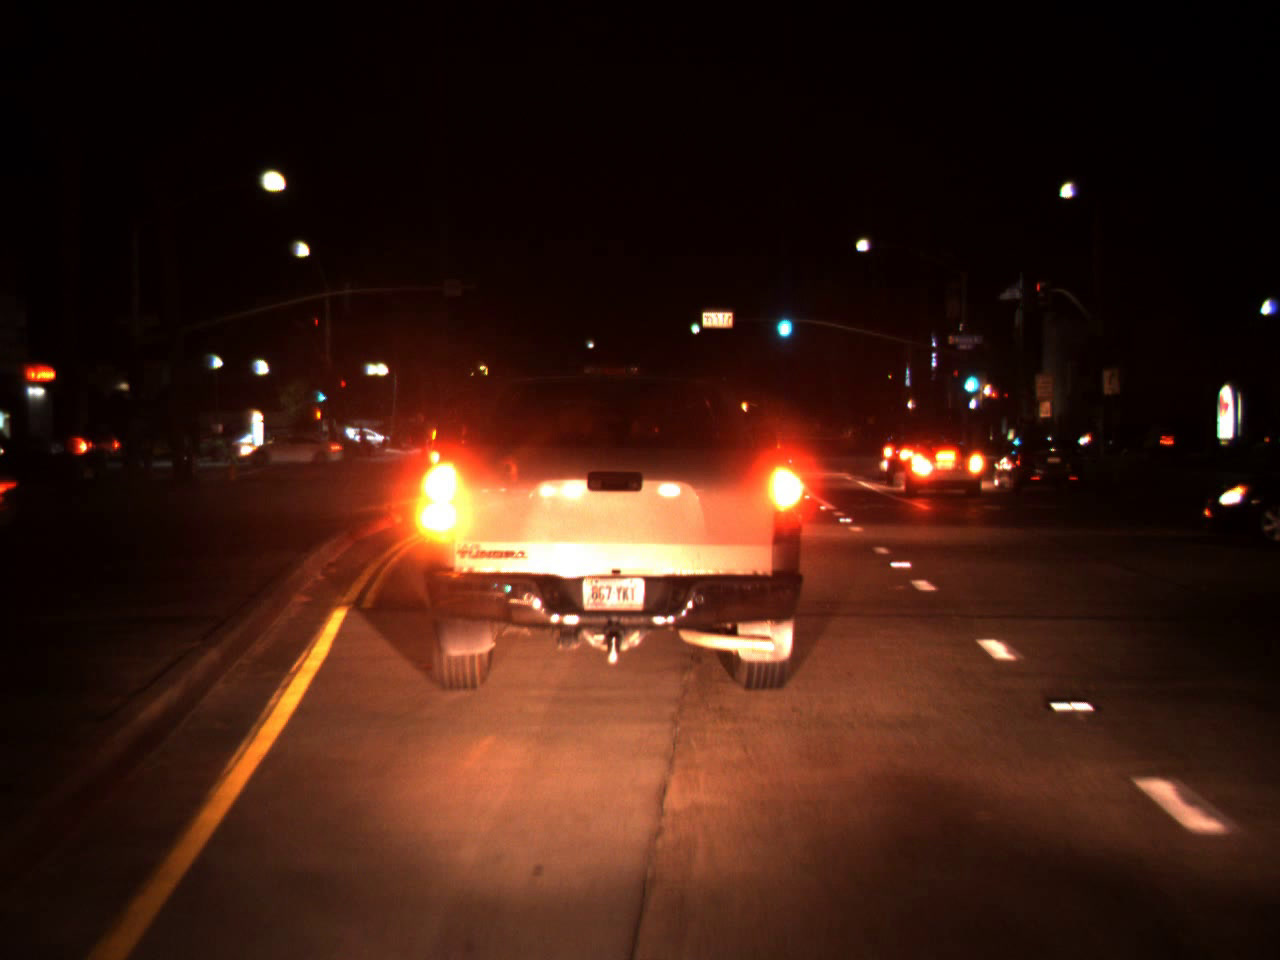go: (771, 296, 794, 344), (958, 356, 981, 398), (688, 313, 700, 337), (316, 385, 325, 403)
